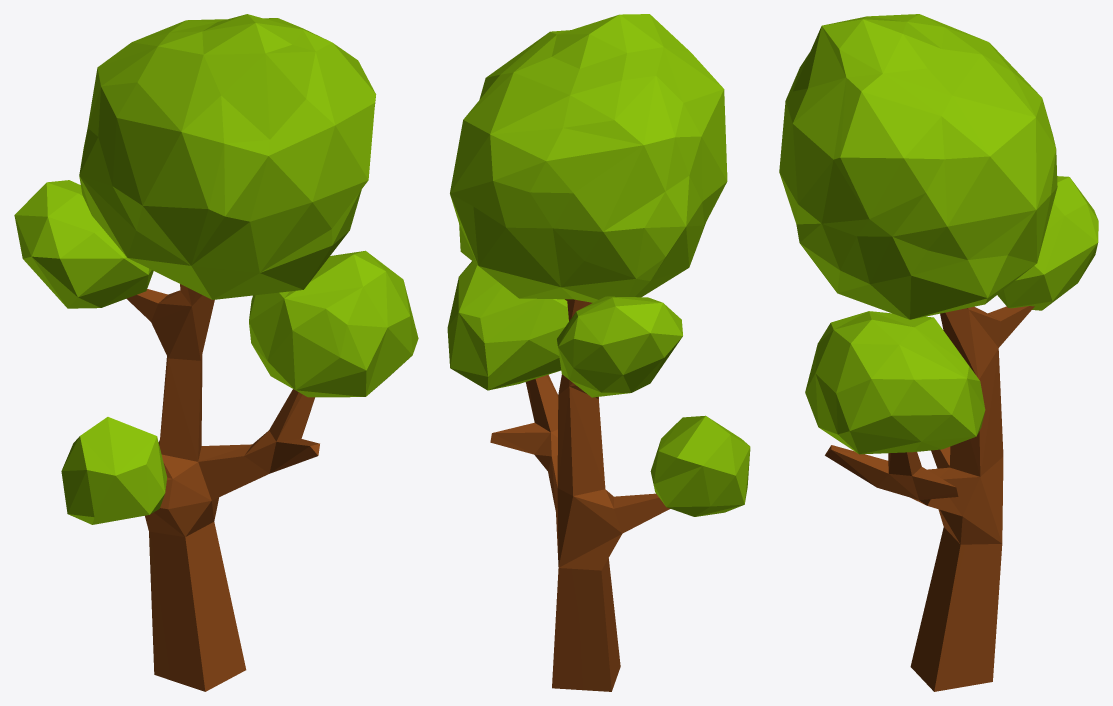
Rendered from arbol.obj.
3 views of the same model, side by side, from view 1: azimuth 30°, elevation 25°; view 2: azimuth 150°, elevation 25°; view 3: azimuth 270°, elevation 25° (orthographic). The views are drawn at different scales.
Visible parts, largest first — view 1: hojasArbol, Tree1_NaturePack; view 2: hojasArbol, Tree1_NaturePack; view 3: hojasArbol, Tree1_NaturePack.
Boxes of the visible parts, x1,y1,x2,y2 form: hojasArbol: (14,14,418,524); Tree1_NaturePack: (126,284,319,691); hojasArbol: (447,14,750,516); Tree1_NaturePack: (490,299,670,691); hojasArbol: (779,14,1098,454); Tree1_NaturePack: (825,306,1034,691).
Size of the model in its own units: 10.52 by 21.42 by 9.4.
Materials: 2 (2 with a texture image).
